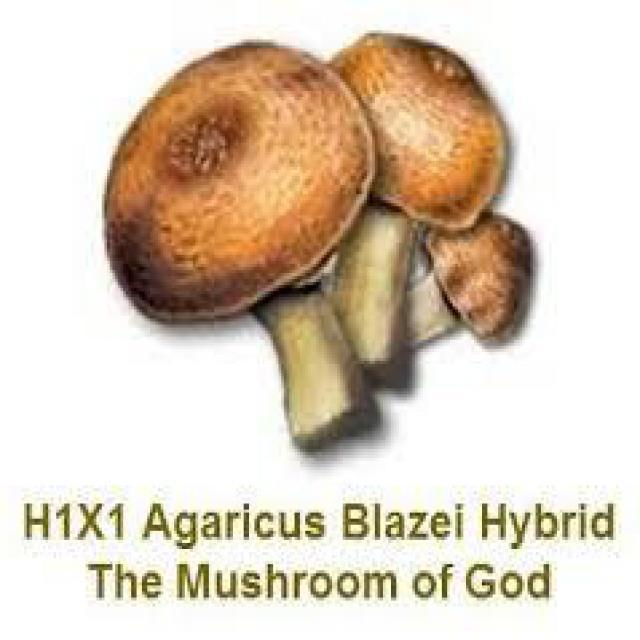Agaricus blazei Murill: (119, 38, 531, 459)
